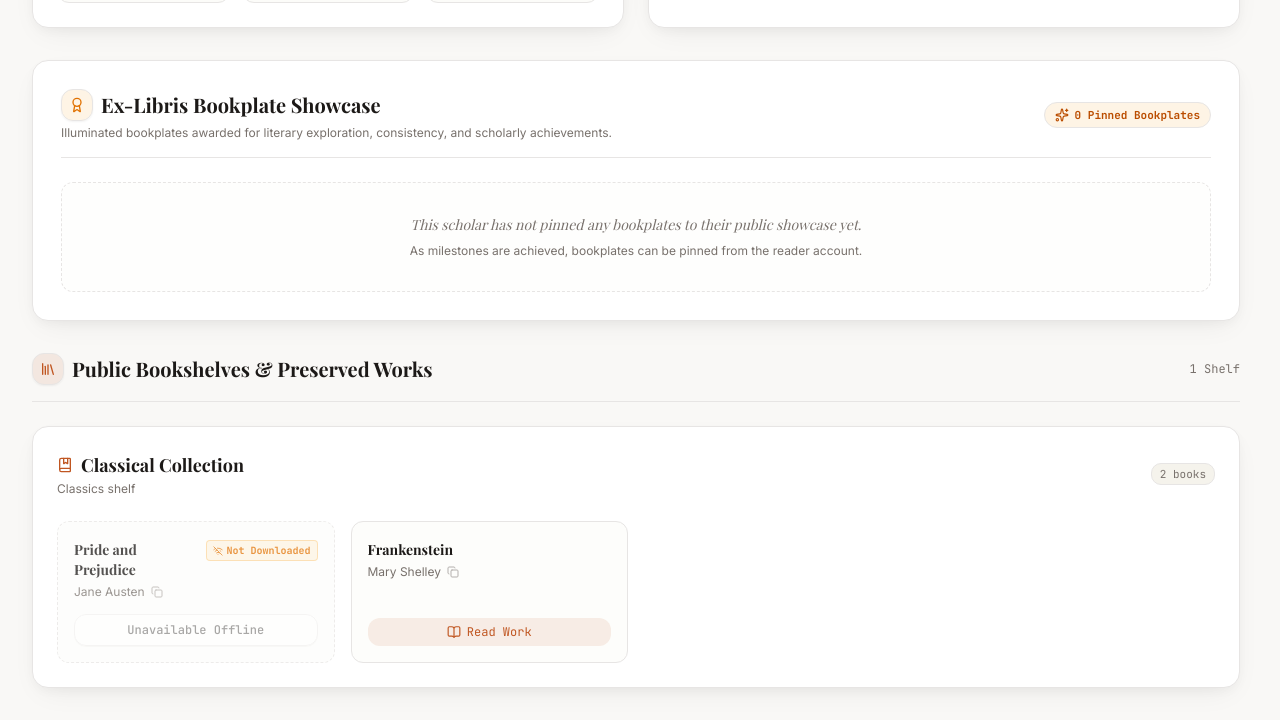
PublicProfileView › enforces offline parity: disables fellowship actions and uncached bookshelf items when offline
(page scrolled)
Expected: the element with test id "public-shelf-offline-badge-1342" reads "Not Downloaded", [226,544,310,557]
Expected: the button with test id "public-shelf-read-disabled-1342" is disabled, [74,614,318,646]
Step 1. Click the button with test id "public-shelf-copy-meta-84" → x=413, y=560, box [368,540,459,579]
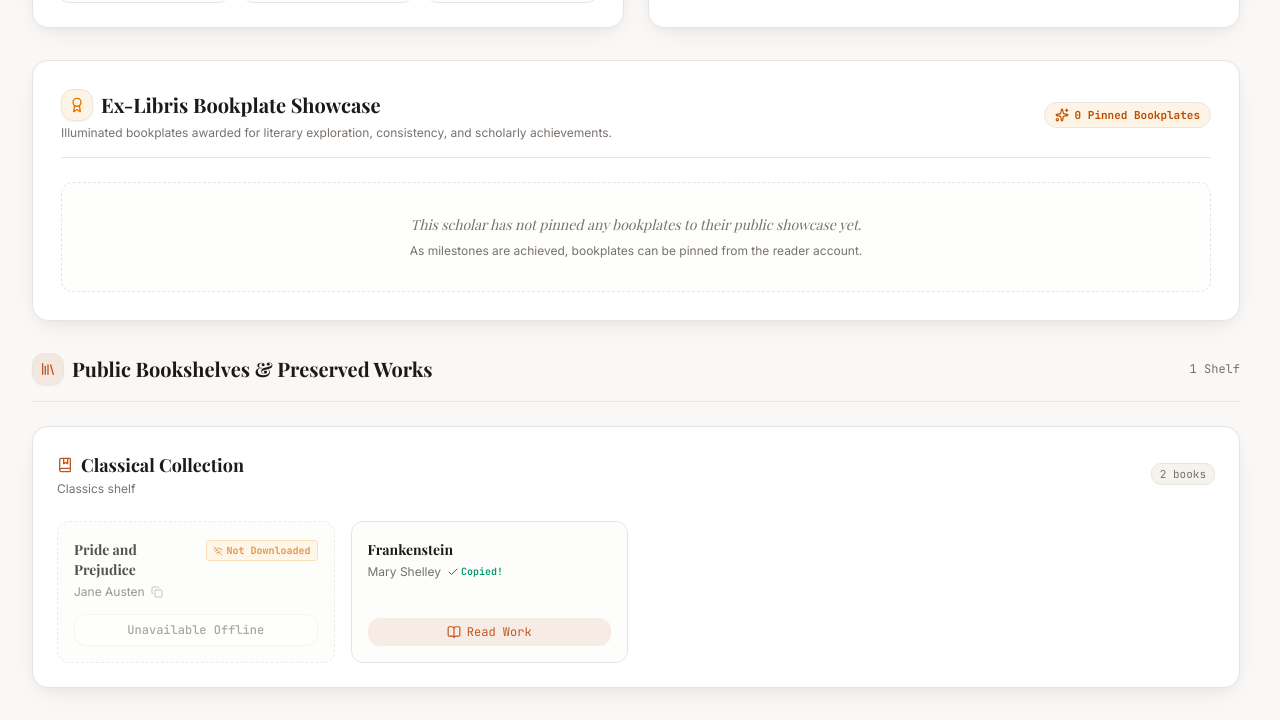
Expected: the element with test id "copy-book-link-indicator-84" reads "Copied!", [461,565,503,578]
